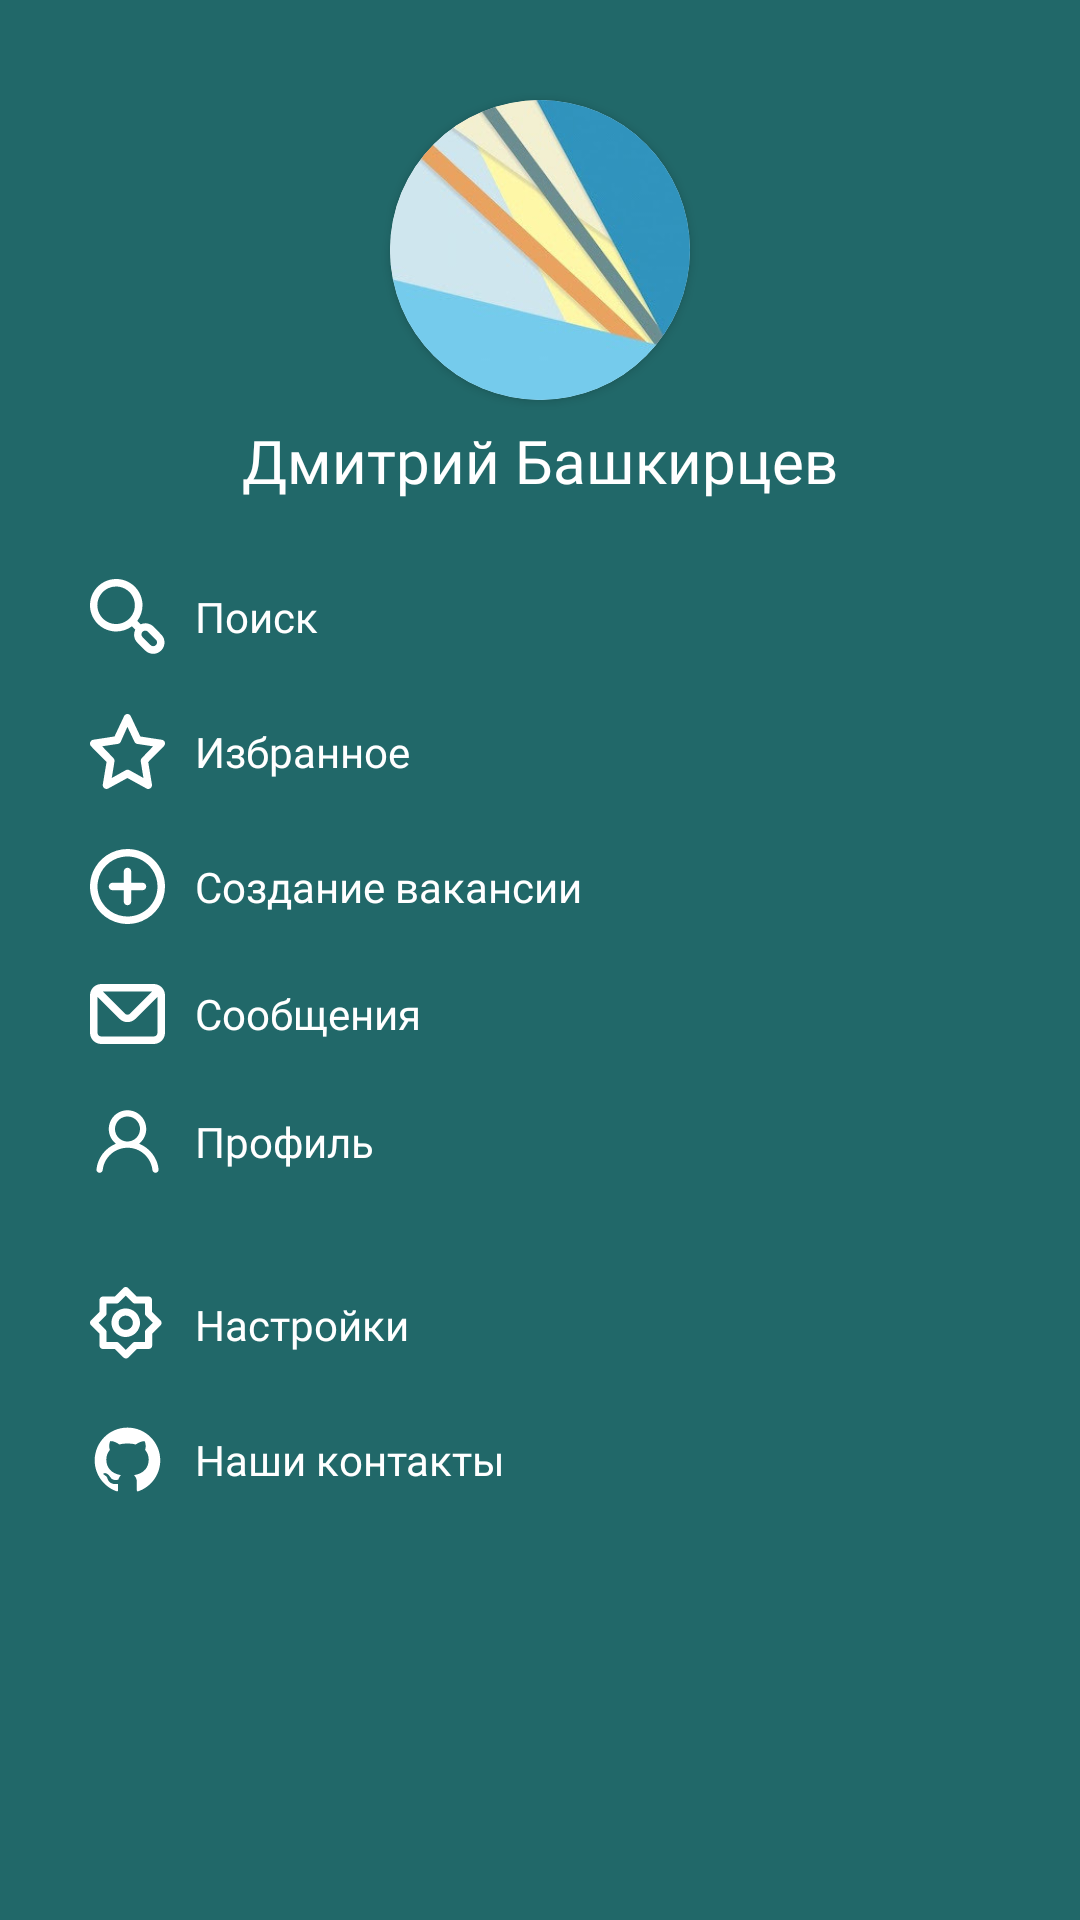

Locate icon controls on the screen. Image size 1080px x 1920px, boxes as [x1,y1,x2,y2].
favorite: [90,714,165,789]
loupe: [90,579,165,654]
message: [90,984,165,1044]
profile: [96,1110,159,1173]
settings: [90,1287,162,1359]
